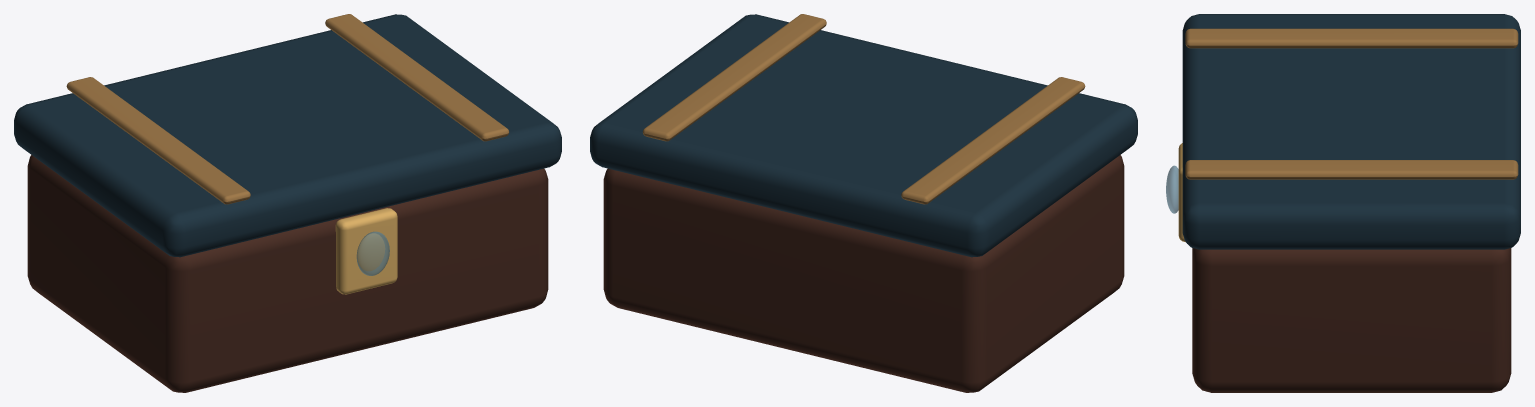
Rendered from archive-chest-v1.glb.
3 renders of one model, left to right at view 1: azimuth 30°, elevation 25°; view 2: azimuth 150°, elevation 25°; view 3: azimuth 270°, elevation 25°, orthographic. The views are drawn at different scales.
Visible parts, largest first — view 1: ArchiveLid, ArchiveChest, BronzeStrap, BronzeStrap.001, ChestLock, LockGem; view 2: ArchiveChest, ArchiveLid, BronzeStrap, BronzeStrap.001; view 3: ArchiveLid, ArchiveChest, BronzeStrap, BronzeStrap.001, LockGem, ChestLock.
Part boxes in pixels (<box>): ArchiveLid: <box>14,14,561,257</box>; ArchiveChest: <box>27,155,548,392</box>; BronzeStrap: <box>66,77,250,204</box>; BronzeStrap.001: <box>325,14,509,141</box>; ChestLock: <box>335,208,397,294</box>; LockGem: <box>356,231,389,275</box>; ArchiveChest: <box>603,155,1124,392</box>; ArchiveLid: <box>590,14,1137,257</box>; BronzeStrap: <box>901,77,1085,204</box>; BronzeStrap.001: <box>642,14,826,141</box>; ArchiveLid: <box>1182,14,1520,249</box>; ArchiveChest: <box>1192,248,1511,392</box>; BronzeStrap: <box>1185,28,1518,48</box>; BronzeStrap.001: <box>1185,160,1518,179</box>; LockGem: <box>1166,165,1178,213</box>; ChestLock: <box>1178,143,1185,242</box>.
Bounding box in the file's own units: 1.72 × 0.8075 × 1.28.
